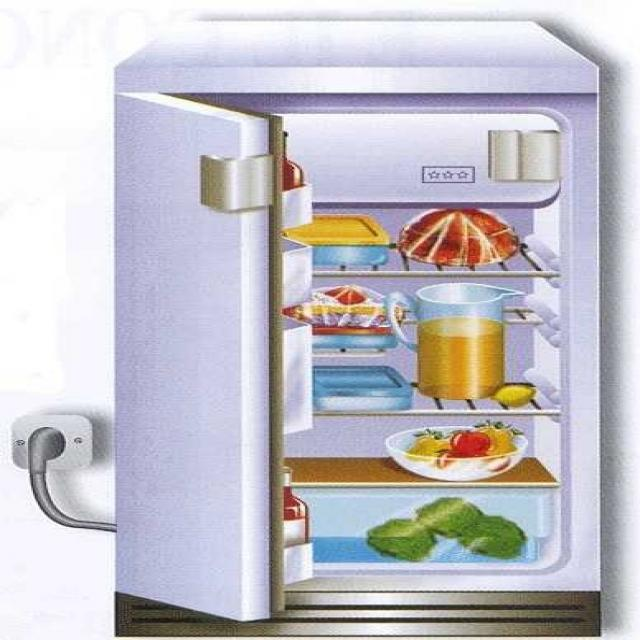refrigerator: (115, 65, 604, 600)
